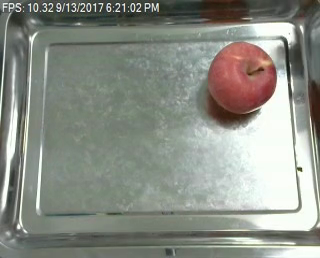Apple: (208, 37, 278, 121)
